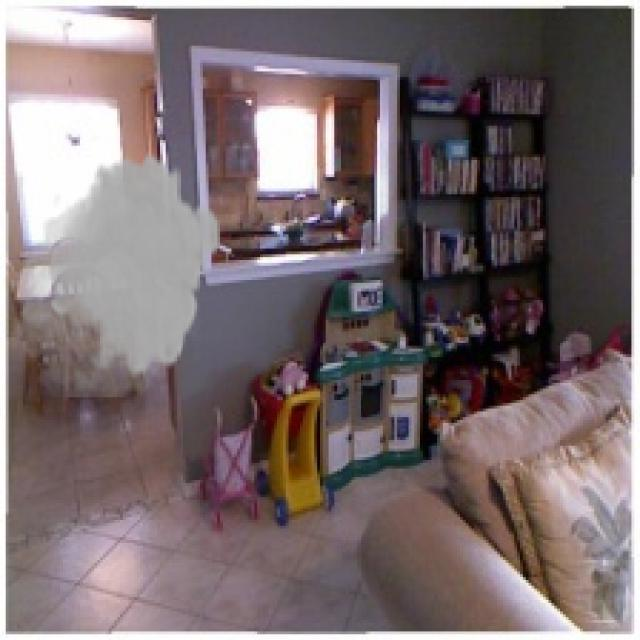Smoke: (3, 148, 223, 398)
